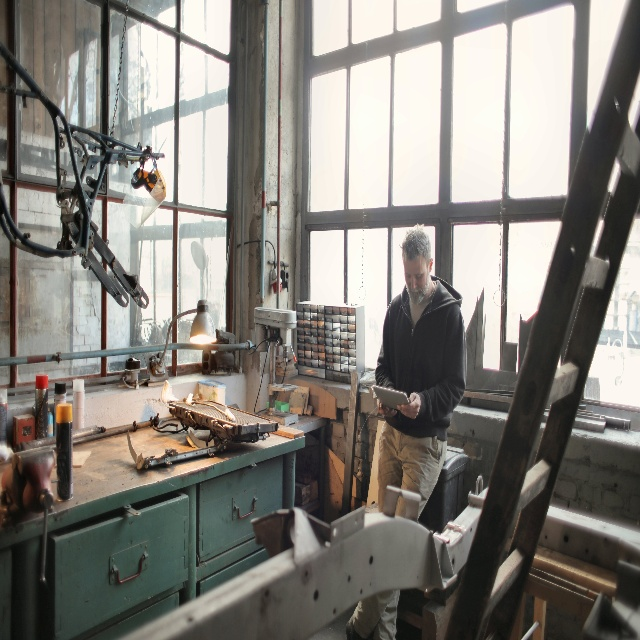Sin_guantes: (397, 391, 421, 419), (376, 398, 397, 418)
